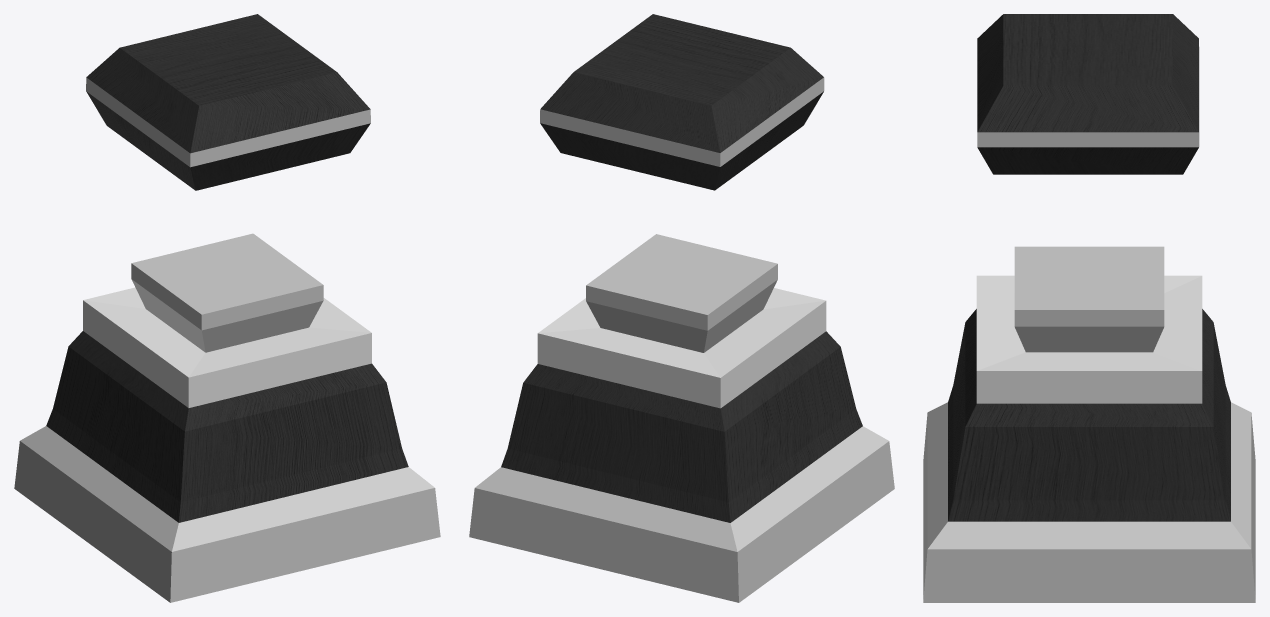
The model's file is ALTAR.fbx.
3 views of the same model, side by side, from view 1: azimuth 30°, elevation 25°; view 2: azimuth 150°, elevation 25°; view 3: azimuth 270°, elevation 25° (orthographic). The views are drawn at different scales.
Parts seen in each view (by area): view 1: OBJETO_ALTAR; view 2: OBJETO_ALTAR; view 3: OBJETO_ALTAR.
Part boxes in pixels (left/top/right/bottom): OBJETO_ALTAR: left=14, top=14, right=440, bottom=602; OBJETO_ALTAR: left=469, top=14, right=894, bottom=602; OBJETO_ALTAR: left=923, top=14, right=1255, bottom=602.
Bounding box in the file's own units: 557 × 892 × 557.
